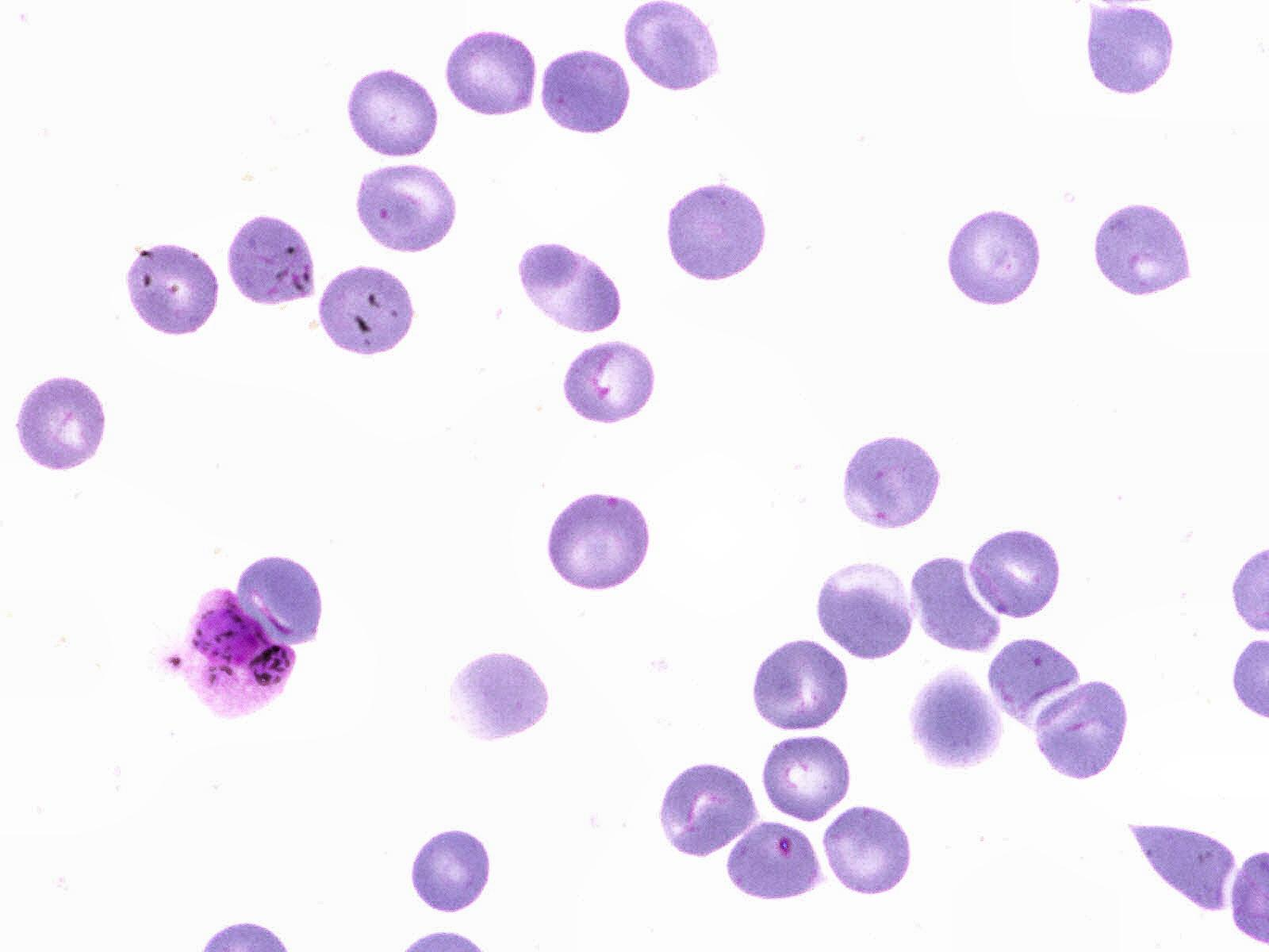Infected: (181, 586, 299, 724)
Uninfected: (664, 179, 769, 286), (1027, 679, 1135, 782), (544, 492, 652, 592), (941, 210, 1051, 308), (121, 243, 224, 344), (353, 161, 461, 257), (658, 762, 761, 860), (1129, 823, 1237, 915), (1091, 202, 1194, 298), (817, 560, 916, 659), (319, 262, 415, 364), (907, 668, 1003, 770), (445, 650, 550, 743), (910, 553, 1005, 655), (983, 634, 1086, 727), (13, 374, 109, 473), (749, 640, 849, 735), (223, 209, 316, 311), (966, 528, 1064, 624), (347, 68, 447, 162), (622, 2, 723, 94), (842, 436, 943, 528), (519, 243, 622, 332), (234, 553, 326, 651), (727, 820, 829, 908), (761, 731, 855, 824), (823, 804, 917, 897), (536, 47, 634, 136), (445, 29, 538, 118), (565, 337, 658, 425), (1084, 4, 1173, 94), (410, 826, 496, 913)
